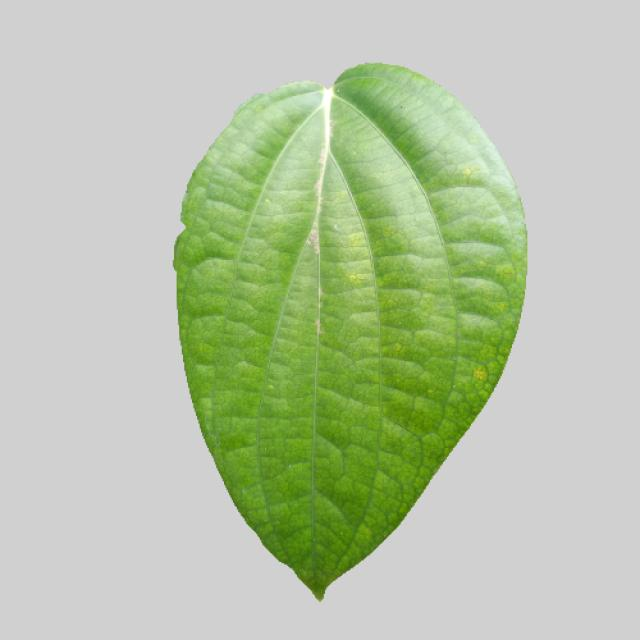healthy: (175, 60, 532, 601)
